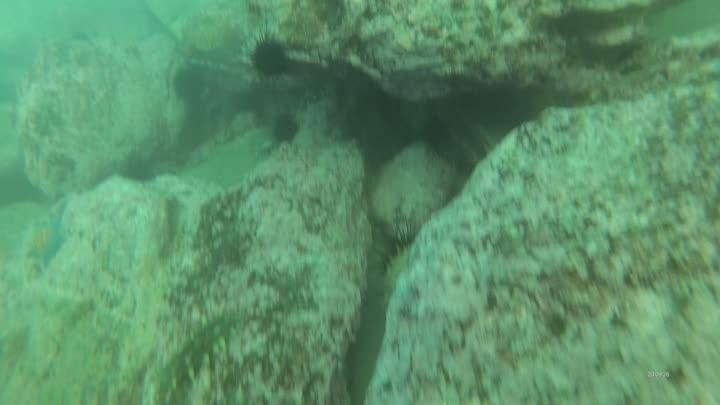echinus: (472, 76, 544, 138), (376, 220, 439, 268), (248, 35, 292, 79), (170, 62, 212, 105), (118, 150, 159, 186), (268, 110, 303, 147)
holothurian: (147, 304, 246, 401), (548, 60, 657, 107), (376, 241, 415, 314)
starfish: (20, 214, 71, 273)
